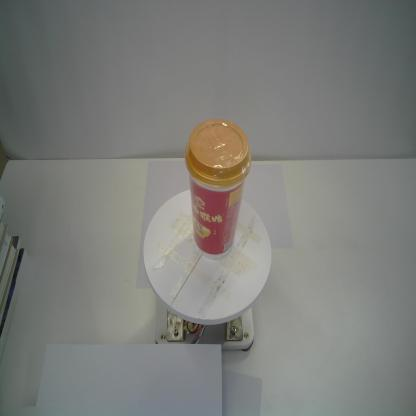Instant Drink: (184, 118, 252, 260)
